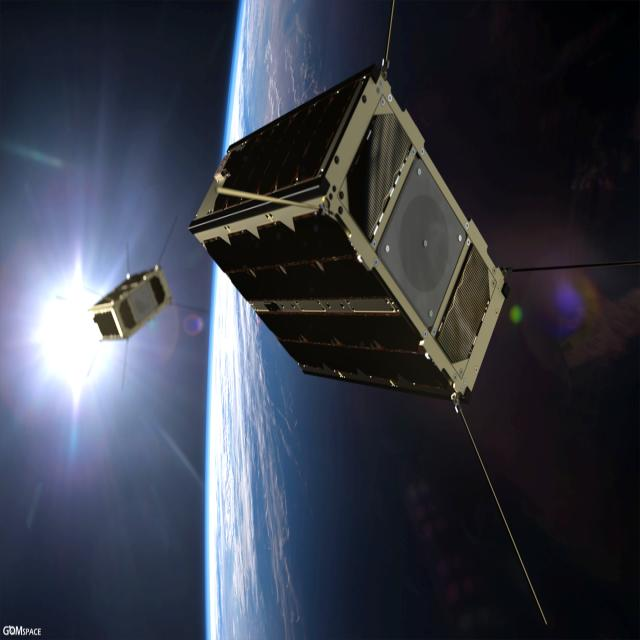satellite: (186, 21, 603, 572), (76, 225, 186, 384)
